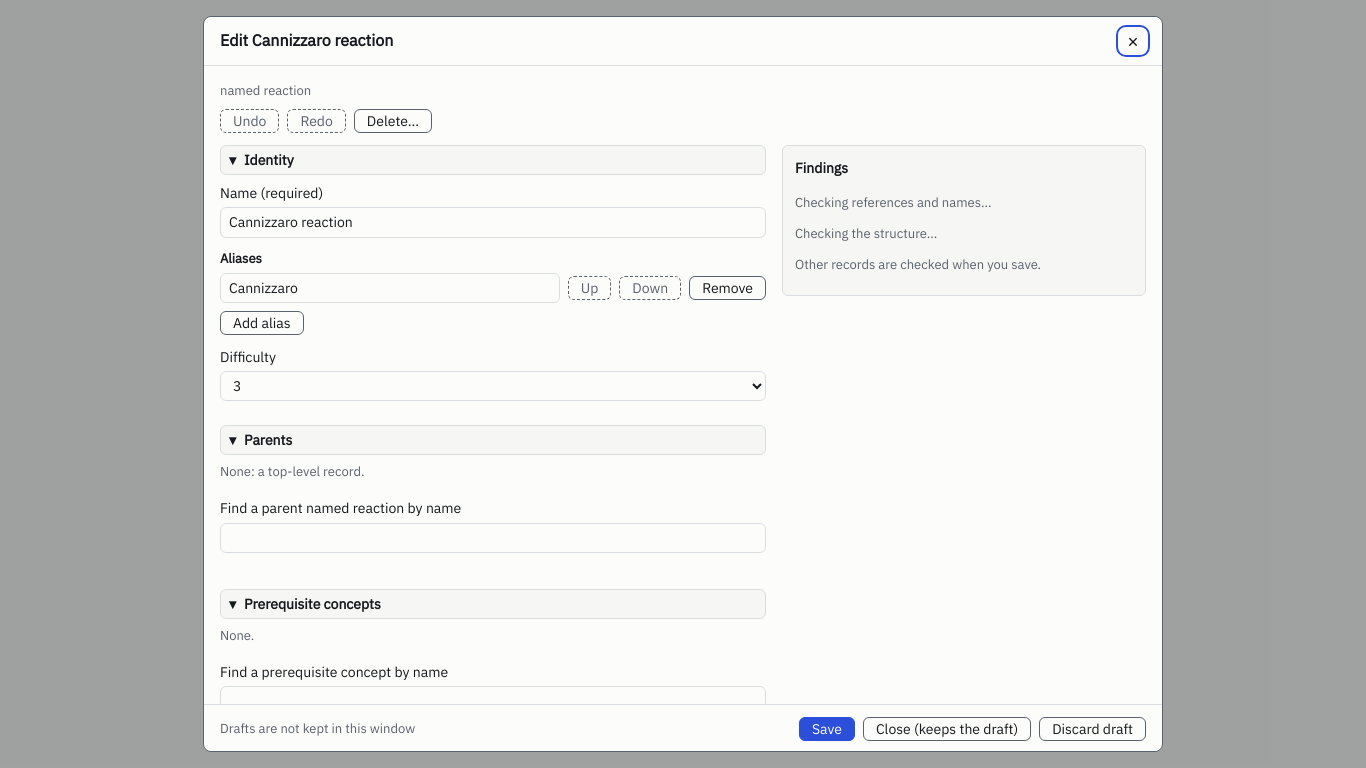
Scenario: editing a demo named reaction › refuses the record itself as a parent, in words, with no button
The image size is (1366, 768).
Type "Cannizzaro" into the search field labelled "Find a parent named reaction by name" at {"x": 493, "y": 538}, box [220,523,766,553]
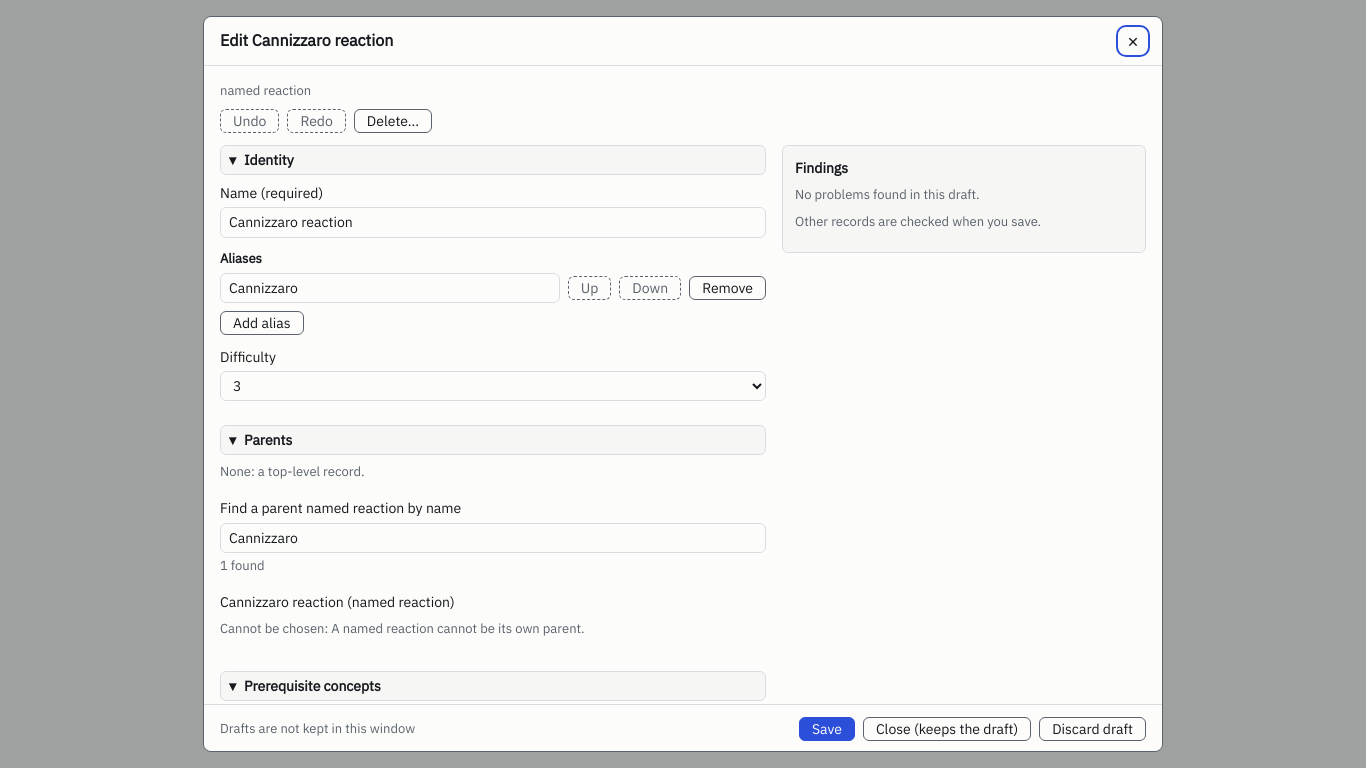
Now the list named "Named reactions found" shows "Cannot be chosen: A named reaction cannot be its own parent", box [220,593,585,637]
